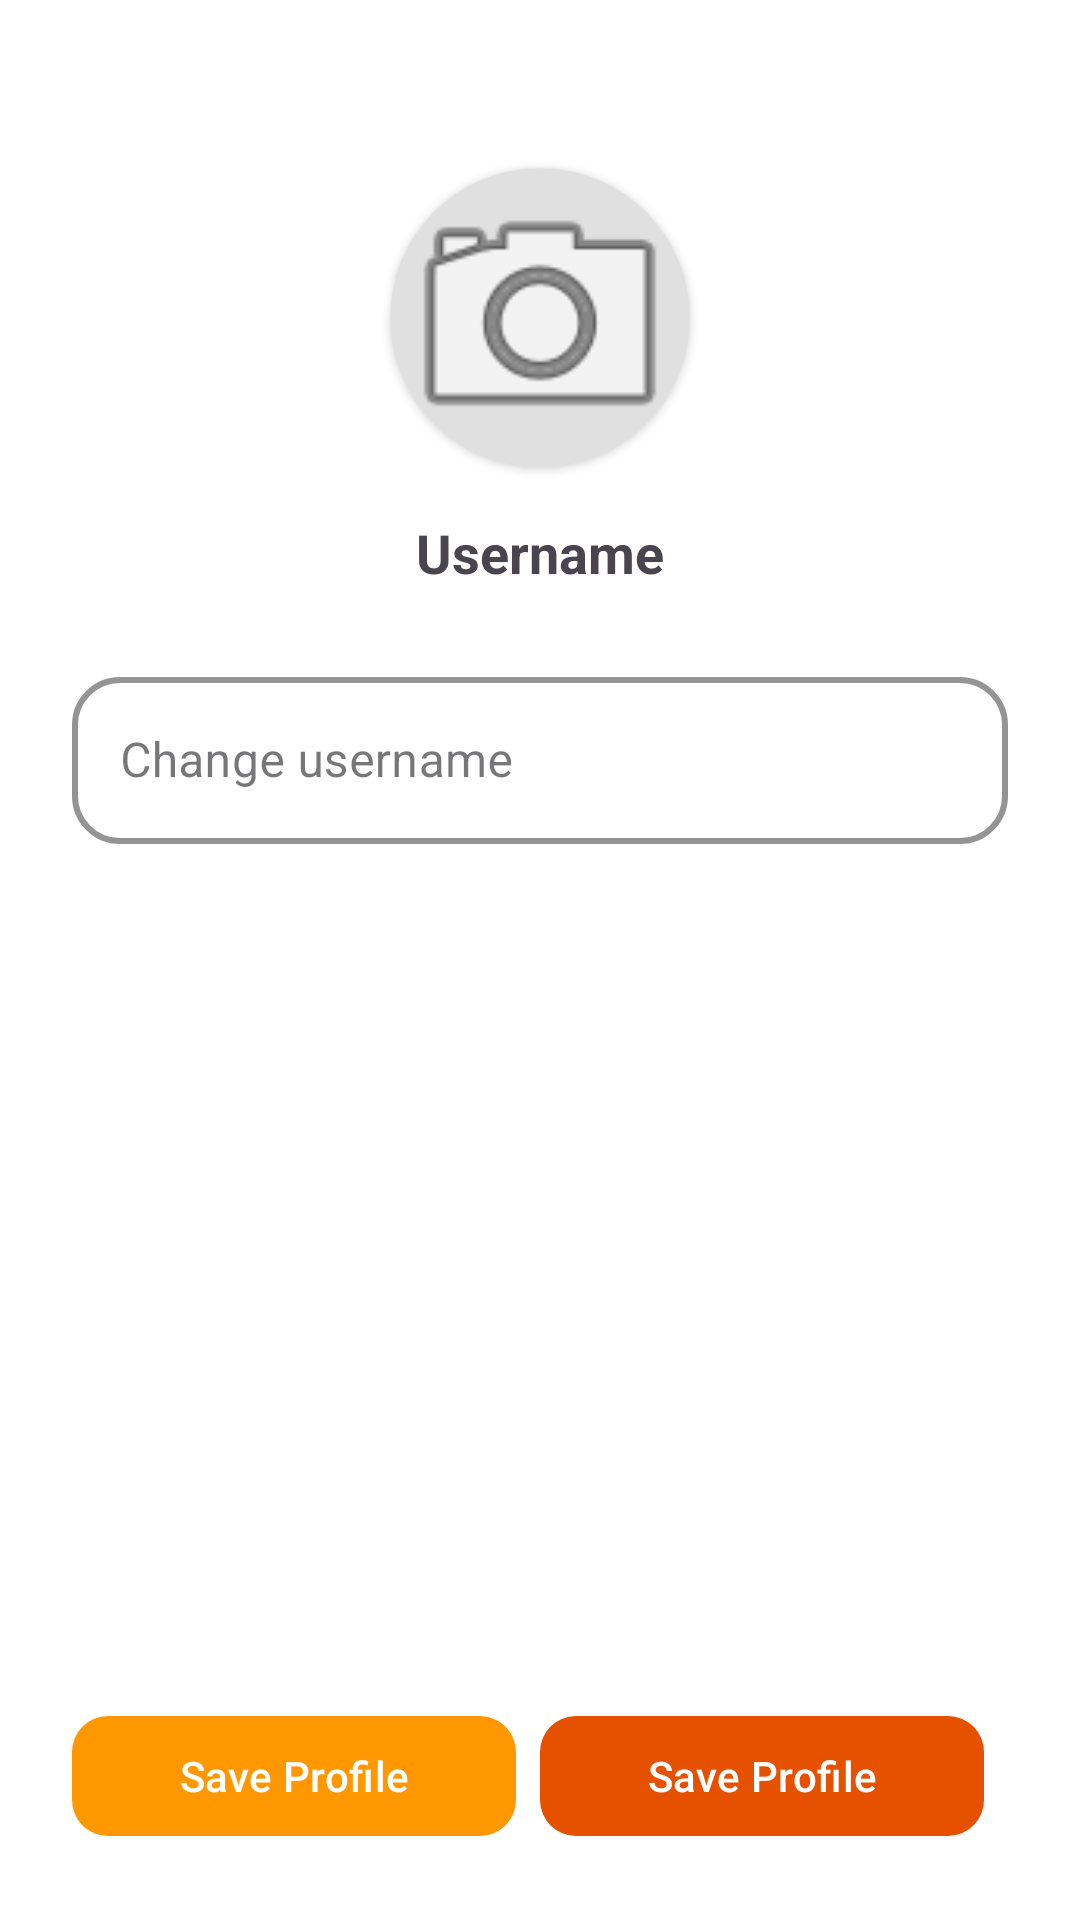

Screen size 1080x1920. Icon name, then its box in pixels as (x1, y1, x2, y2):
camera: (390, 168, 690, 468)
